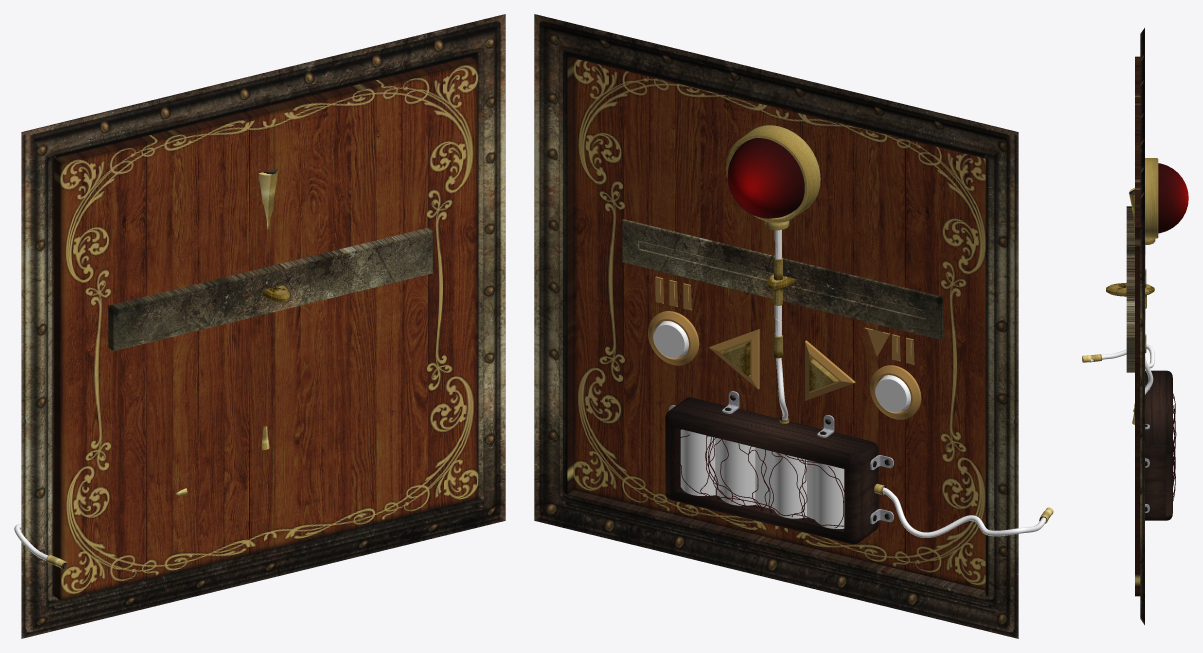
The model's file is Level_02_Wall_4_Clock.FBX.
3 renders of one model, left to right at view 1: azimuth 30°, elevation 25°; view 2: azimuth 150°, elevation 25°; view 3: azimuth 270°, elevation 25°, orthographic. The views are drawn at different scales.
Visible parts, largest first — view 1: Level_02_Box, Box001, Object005; view 2: Level_02_Box, Object009, Box001, Clock_Lamp_010, Line004, Line008, Round_Buttol_Left_Pod, Round_Buttol_Right_Pod, Tr_Buttol_Left_Pod001, Tr_Buttol_Left_Pod, Round_Buttol_Right, Round_Buttol_Left (+2 smaller); view 3: Level_02_Box, Object009, Clock_Lamp_010, Box001, Cylinder001, Line008, Line004, Object005.
Boxes of the visible parts, x1,y1,x2,y2 form: Level_02_Box: (21,14,505,638); Box001: (108,227,432,351); Object005: (258,168,277,229); Level_02_Box: (534,14,1018,638); Object009: (665,391,1053,544); Box001: (622,219,943,339); Clock_Lamp_010: (726,125,820,222); Line004: (671,428,845,528); Line008: (882,487,1046,537); Round_Buttol_Left_Pod: (648,311,699,365); Round_Buttol_Right_Pod: (870,365,921,419); Tr_Buttol_Left_Pod001: (805,340,855,400); Tr_Buttol_Left_Pod: (709,329,759,389); Round_Buttol_Right: (875,375,910,412); Round_Buttol_Left: (653,321,688,358); Level_02_Box: (1135,28,1144,624); Object009: (1082,354,1172,520); Clock_Lamp_010: (1145,158,1188,238); Box001: (1126,206,1134,372); Cylinder001: (1106,255,1154,320); Line008: (1090,344,1154,368); Line004: (1173,393,1176,500); Object005: (1129,187,1155,244).
Bounding box in the file's own units: 102 × 100 × 22.65.
